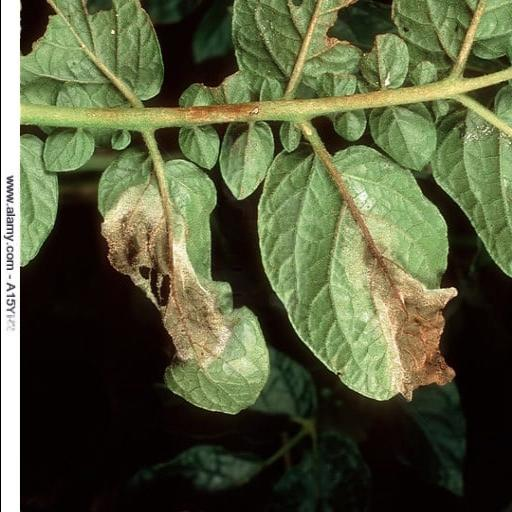Late Blight: (256, 146, 460, 402), (98, 148, 270, 415)
